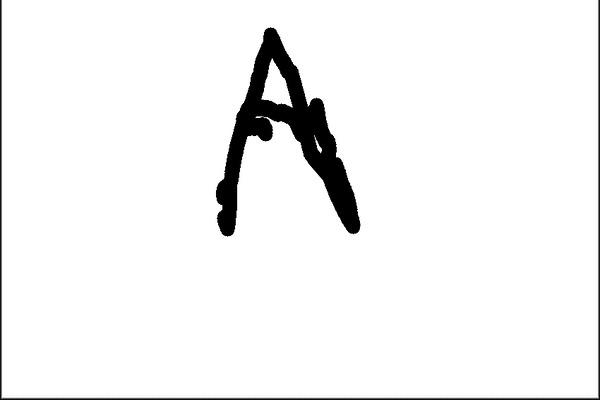A: (201, 22, 364, 242)
